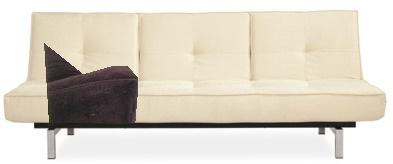tampered: (45, 44, 138, 123)
